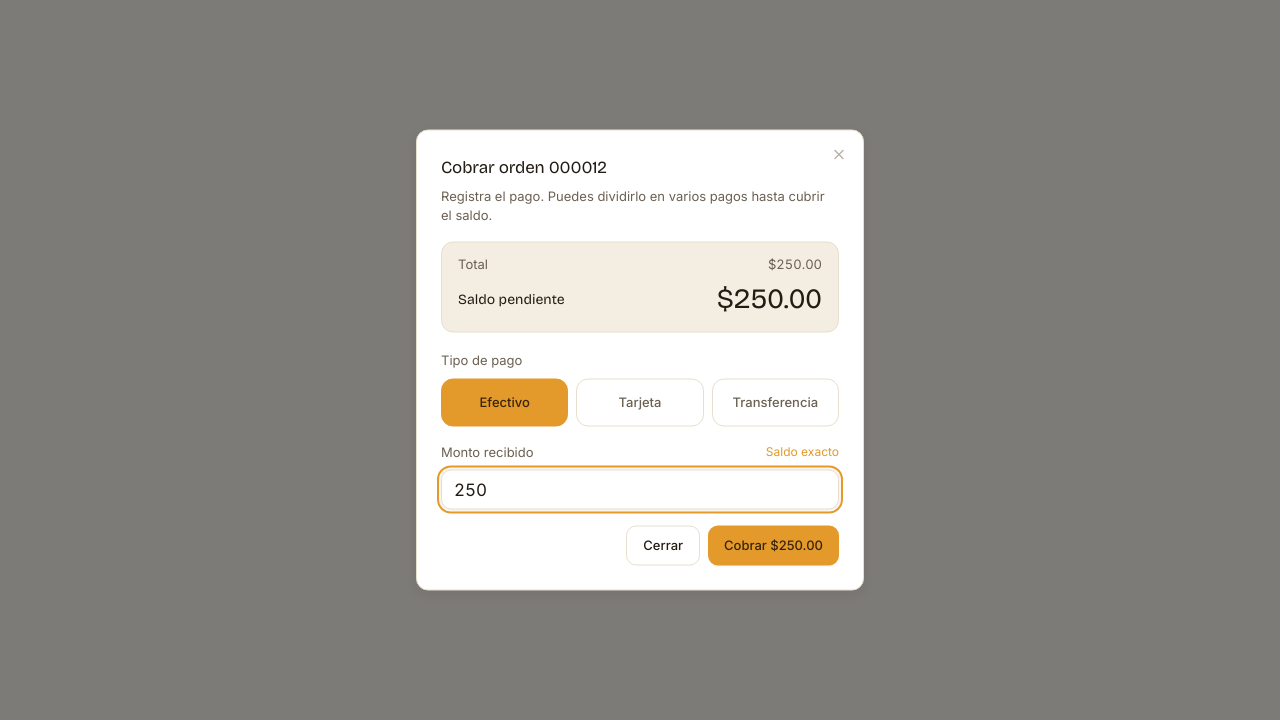
Test: CobrarDialog › sobrepago › en tarjeta lo bloquea: el backend lo rechazaría
The image size is (1280, 720).
Click the button "Tarjeta" at (640, 402), box [576,378,704,426]
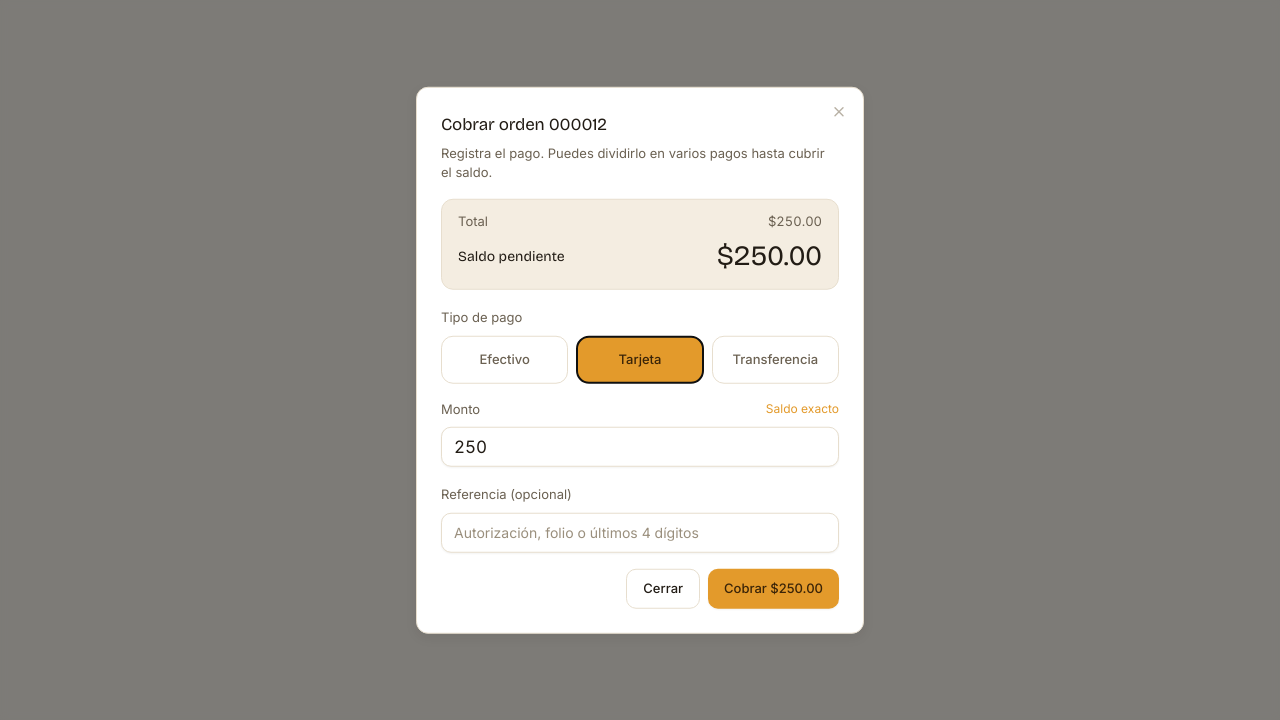
Replace the text in the field with placeholder "0.00" with "500" at (640, 447), box [441,427,839,467]
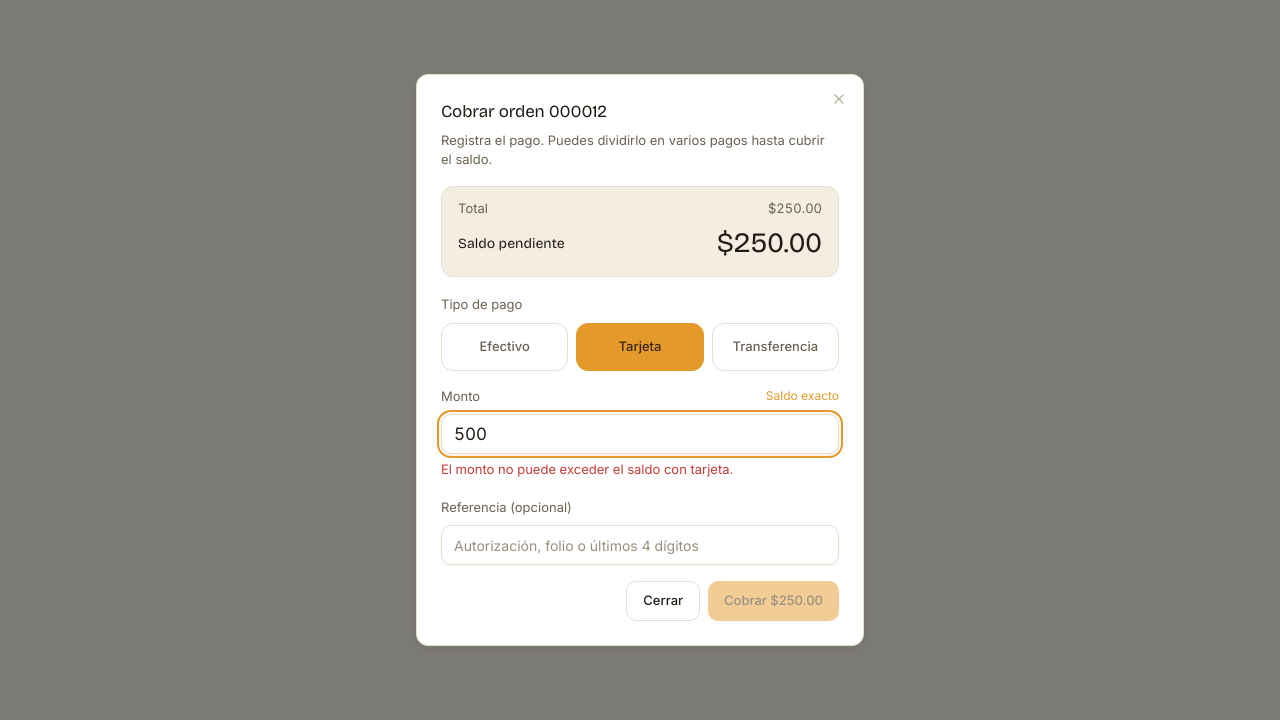
Expected: the button "Cobrar $250.00" is disabled, [708,581,839,621]
Expected: the text "El monto no puede exceder el saldo con tarjeta." is shown, [441,461,733,477]
